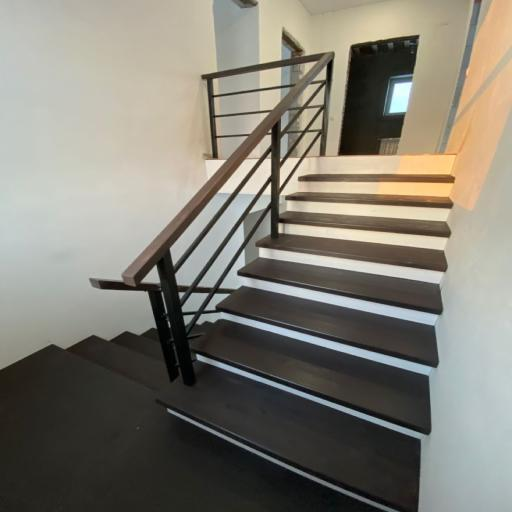laptop: (158, 159, 454, 512), (67, 322, 212, 391)
